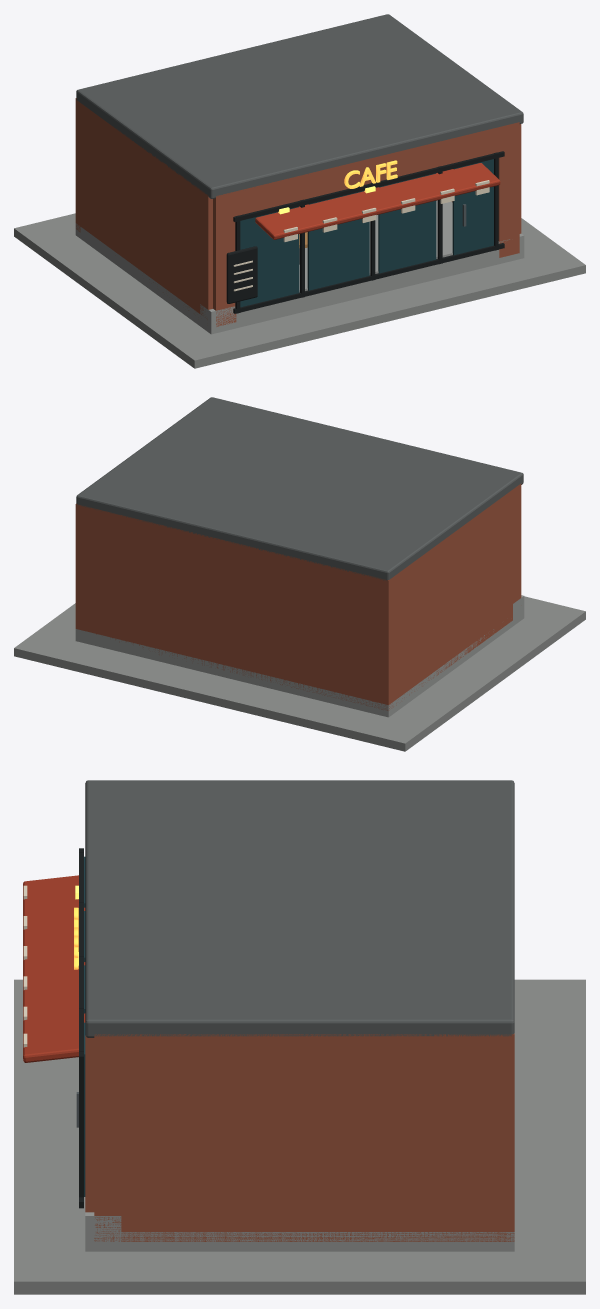
File: CafeStage 7.glb
3 views of the same model, one above another, from view 1: azimuth 30°, elevation 25°; view 2: azimuth 150°, elevation 25°; view 3: azimuth 270°, elevation 25° (orthographic). The views are drawn at different scales.
Parts seen in each view (by area): view 1: FlatRoof.003, CafeWalls.003, TileBase_10x8.006, StorefrontGlass.002, CafeFoundation.005, FrontAwning, StorefrontFrames.002, MenuBoard, AwningStripes, CafeSign.001; view 2: CafeWalls.003, FlatRoof.003, TileBase_10x8.006, CafeFoundation.005; view 3: FlatRoof.003, CafeWalls.003, TileBase_10x8.006, FrontAwning, CafeFoundation.005, StorefrontFrames.002.
Part boxes in pixels (x1,y1,x2,y2): FlatRoof.003: [76, 14, 523, 198]; CafeWalls.003: [75, 98, 521, 326]; TileBase_10x8.006: [14, 213, 585, 368]; StorefrontGlass.002: [240, 159, 493, 307]; CafeFoundation.005: [75, 200, 524, 334]; FrontAwning: [255, 163, 500, 239]; StorefrontFrames.002: [233, 151, 504, 313]; MenuBoard: [226, 246, 257, 303]; AwningStripes: [283, 180, 489, 241]; CafeSign.001: [344, 160, 397, 188]; CafeWalls.003: [75, 483, 521, 710]; FlatRoof.003: [76, 397, 523, 580]; TileBase_10x8.006: [14, 596, 585, 751]; CafeFoundation.005: [75, 595, 524, 717]; FlatRoof.003: [85, 780, 514, 1037]; CafeWalls.003: [85, 1033, 514, 1241]; TileBase_10x8.006: [14, 979, 585, 1294]; FrontAwning: [23, 875, 85, 1062]; CafeFoundation.005: [85, 1212, 514, 1251]; StorefrontFrames.002: [79, 848, 83, 1208].
Bounding box in the file's own units: 10 × 3.76 × 8.
